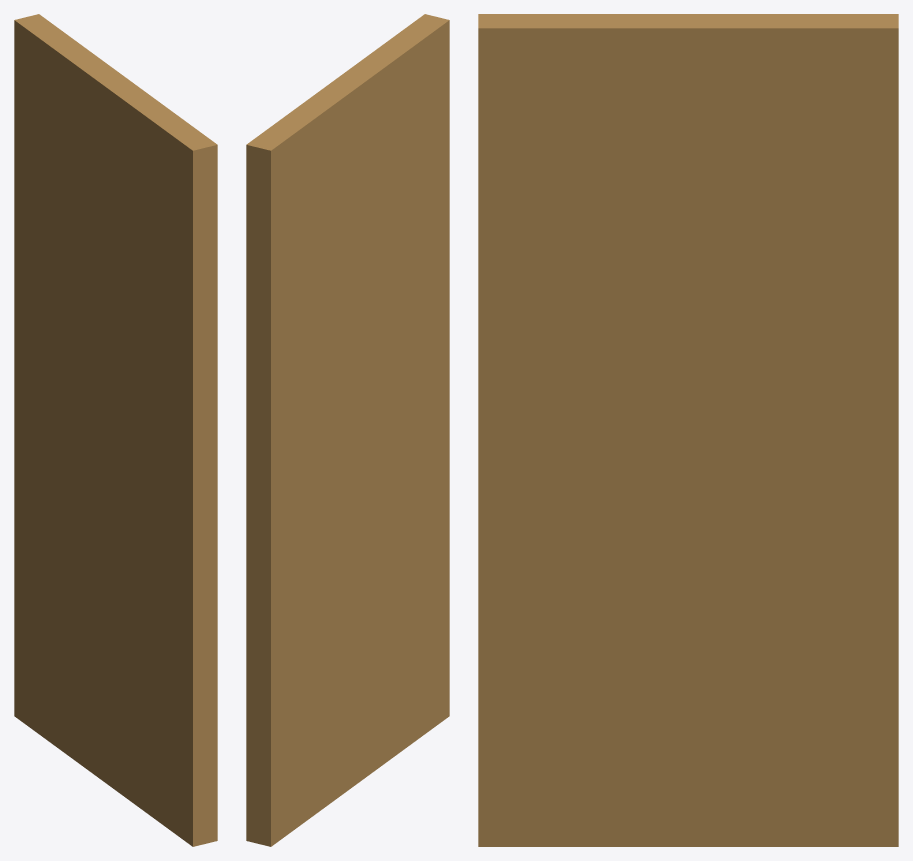
3 renders of one model, left to right at view 1: azimuth 30°, elevation 25°; view 2: azimuth 150°, elevation 25°; view 3: azimuth 270°, elevation 25°, orthographic. The views are drawn at different scales.
Parts seen in each view (by area): view 1: FF-W066; view 2: FF-W066; view 3: FF-W066.
Boxes of the visible parts, box(x1,y1,x2,y2) form: FF-W066: box(14, 14, 217, 846); FF-W066: box(246, 14, 449, 846); FF-W066: box(478, 14, 898, 846).
Size of the model in its own units: 0.09 by 2.42 by 1.13.
